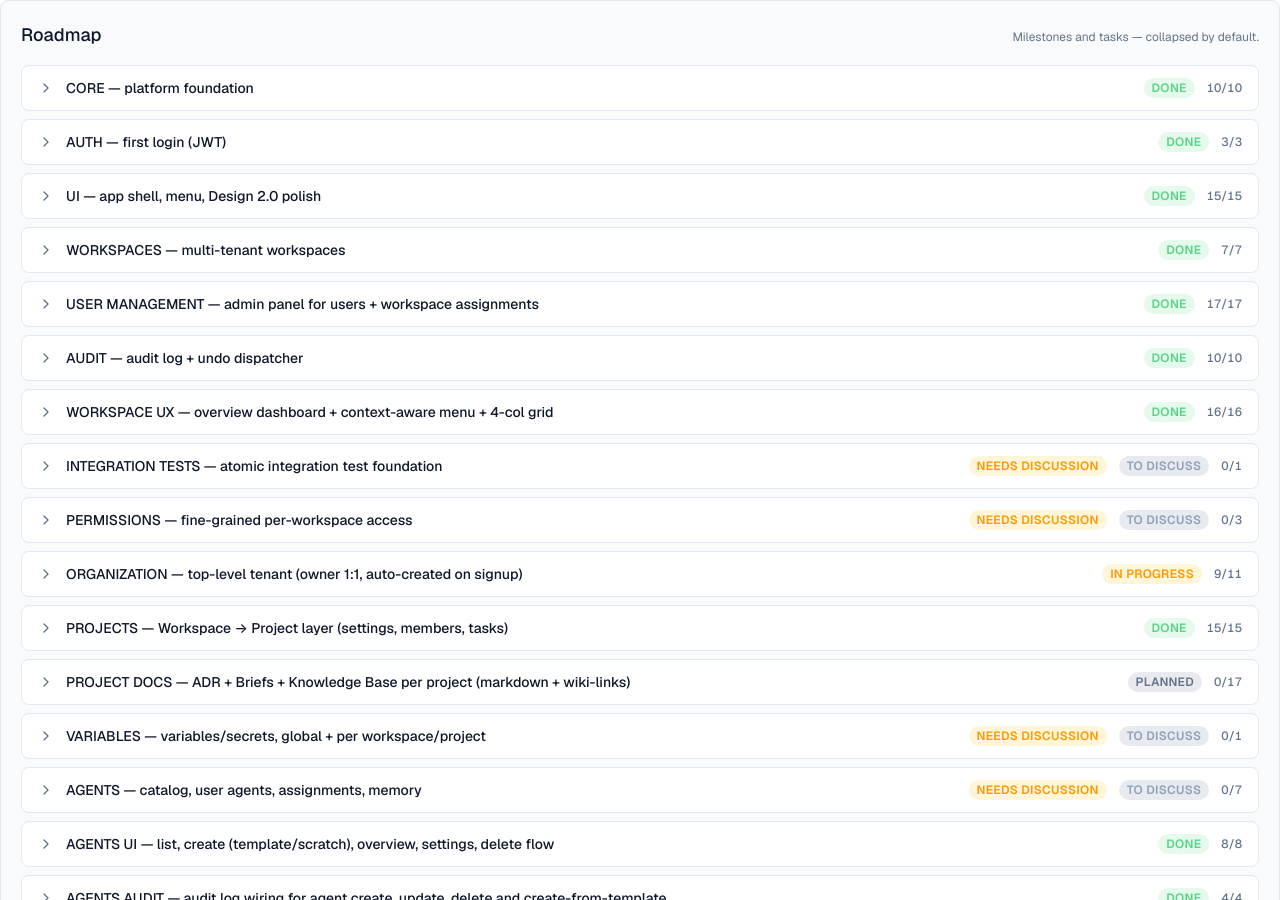
Test case: RoadmapPanel › should render the AGENTS milestone as planned with its BL-AGENTS tasks and no commit links
The image size is (1280, 900).
Click the text "AGENTS — catalog, user agents, assignments, memory" at (244, 790), box left=66, top=781, right=422, bottom=799
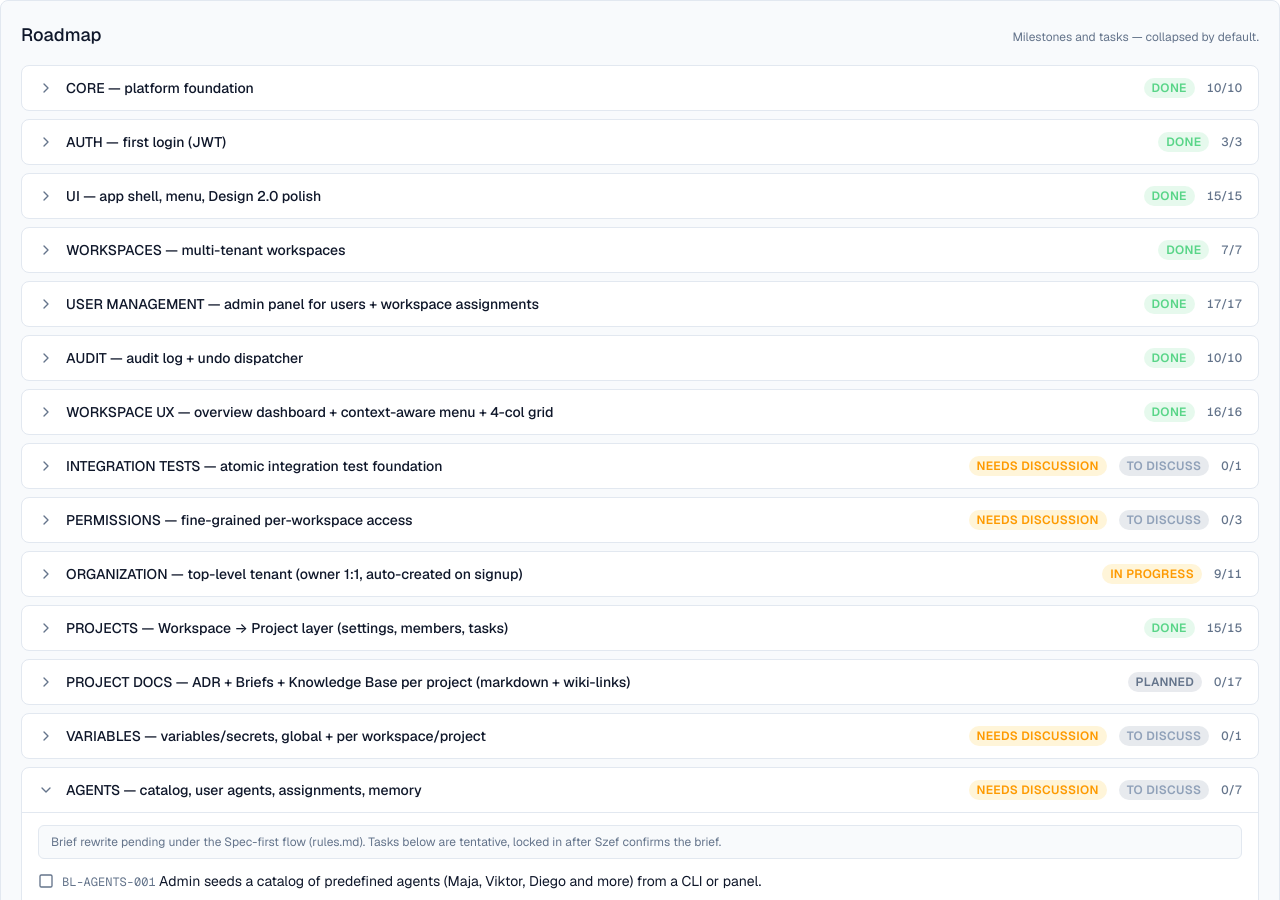
Result: the text "BL-AGENTS-001" is shown at left=62, top=874, right=156, bottom=890
